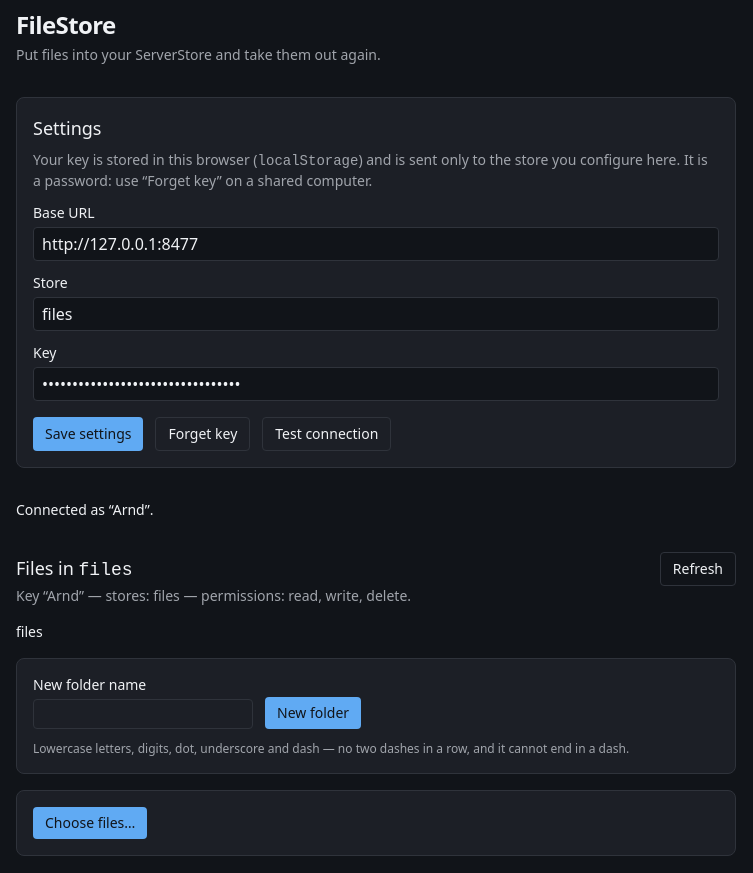
Scenario: "Forget key" clears the key, leaves baseUrl and store as they were, and returns the app to unconfigured
expect the text "Connected as “Arnd”." is shown: met, box 16,500 -> 154,519
Click the button "Forget key": (203,434) 156,417 -> 250,451
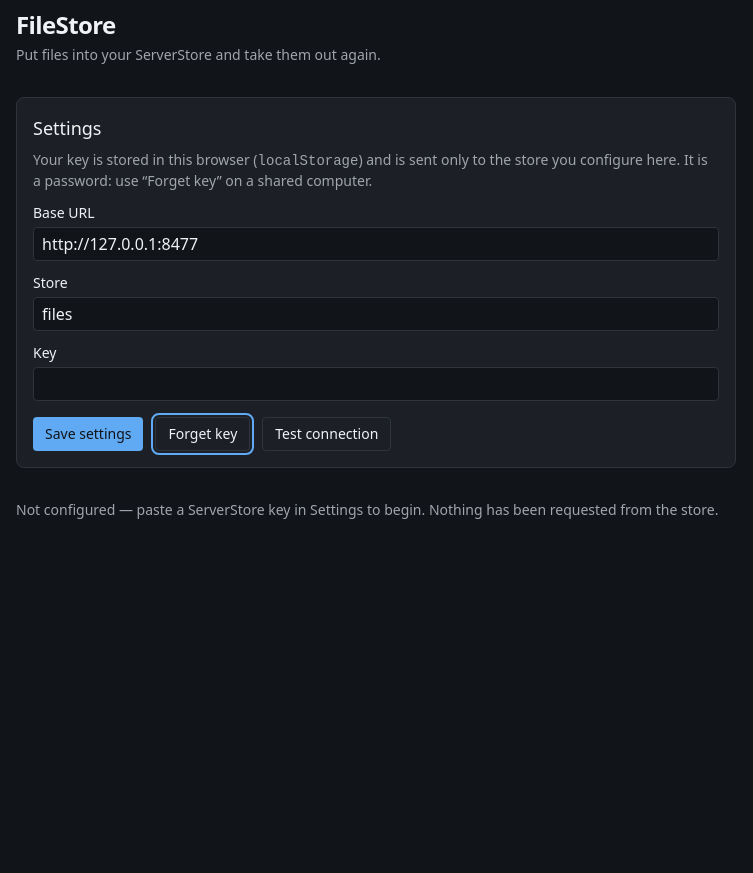
expect the password field labelled "Key" is empty: met, box 33,367 -> 719,401
expect the text "Not configured" is shown: met, box 16,500 -> 718,519
expect the text "Connected as" is gone: met
